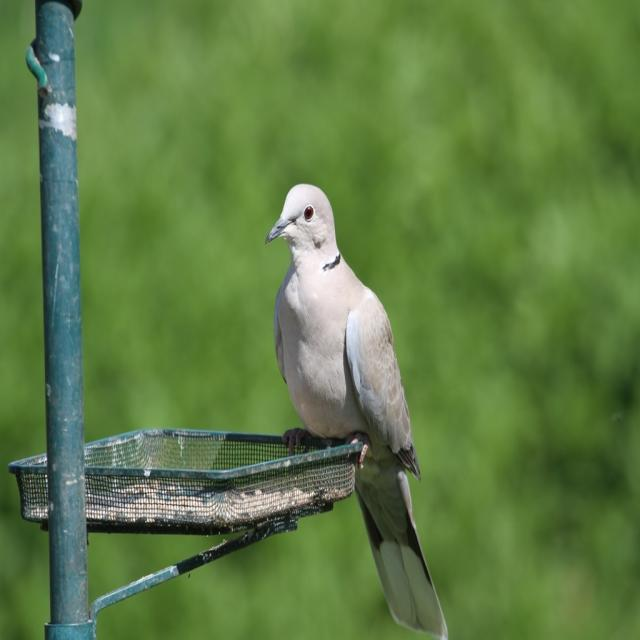bird: (262, 180, 450, 639)
